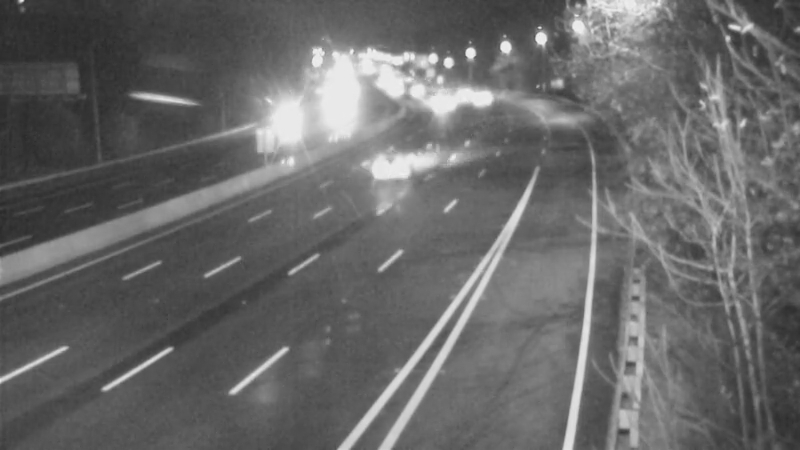vehicle: (352, 133, 432, 213), (455, 72, 505, 122), (415, 80, 465, 130), (260, 96, 310, 146)
